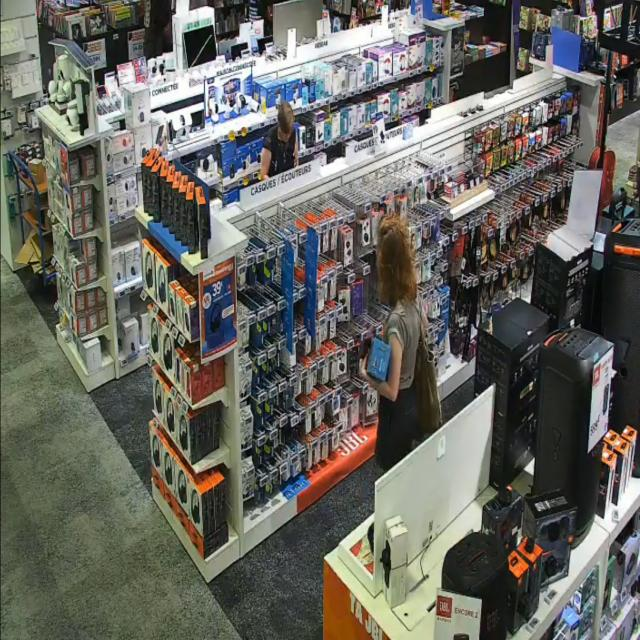article: (366, 338, 390, 381)
bags: (413, 321, 441, 434)
hands: (360, 354, 368, 379)
person: (360, 216, 425, 470), (262, 102, 298, 179)
